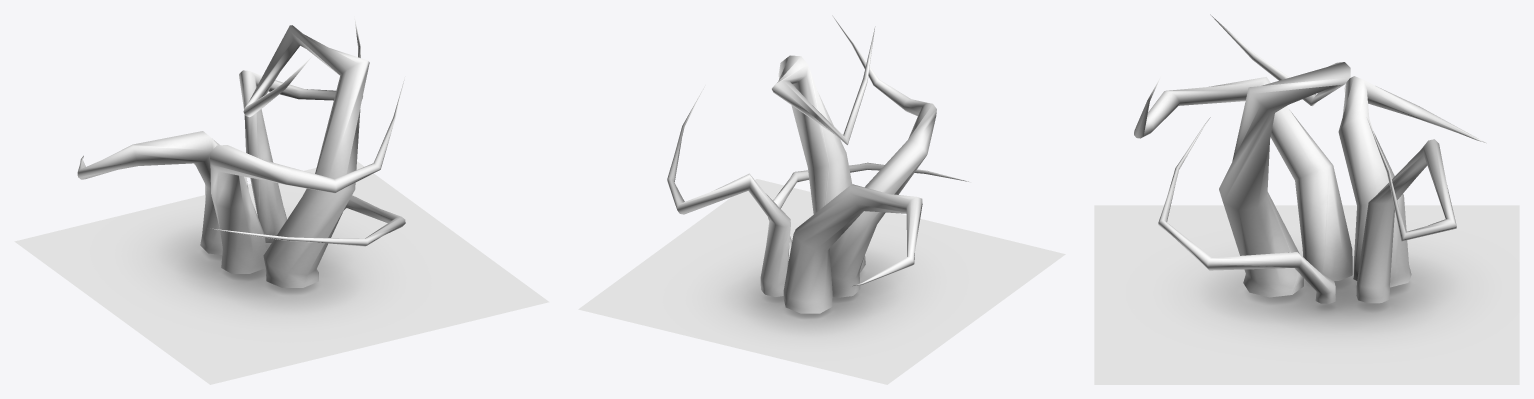
File: arrow.dae
3 renders of one model, left to right at view 1: azimuth 30°, elevation 25°; view 2: azimuth 150°, elevation 25°; view 3: azimuth 270°, elevation 25°, orthographic. The views are drawn at different scales.
Parts seen in each view (by area): view 1: pPlane6, polySurface1; view 2: pPlane6, polySurface1; view 3: pPlane6, polySurface1.
Boxes of the visible parts, x1=… form: pPlane6: x1=14, y1=161, x2=549, y2=384; polySurface1: x1=77, y1=16, x2=405, y2=287; pPlane6: x1=578, y1=179, x2=1065, y2=384; polySurface1: x1=667, y1=15, x2=970, y2=313; pPlane6: x1=1094, y1=205, x2=1519, y2=384; polySurface1: x1=1134, y1=14, x2=1486, y2=303.
Bounding box in the file's own units: 5.8 × 5.8 × 4.12.
Materials: 2 (2 with a texture image).
